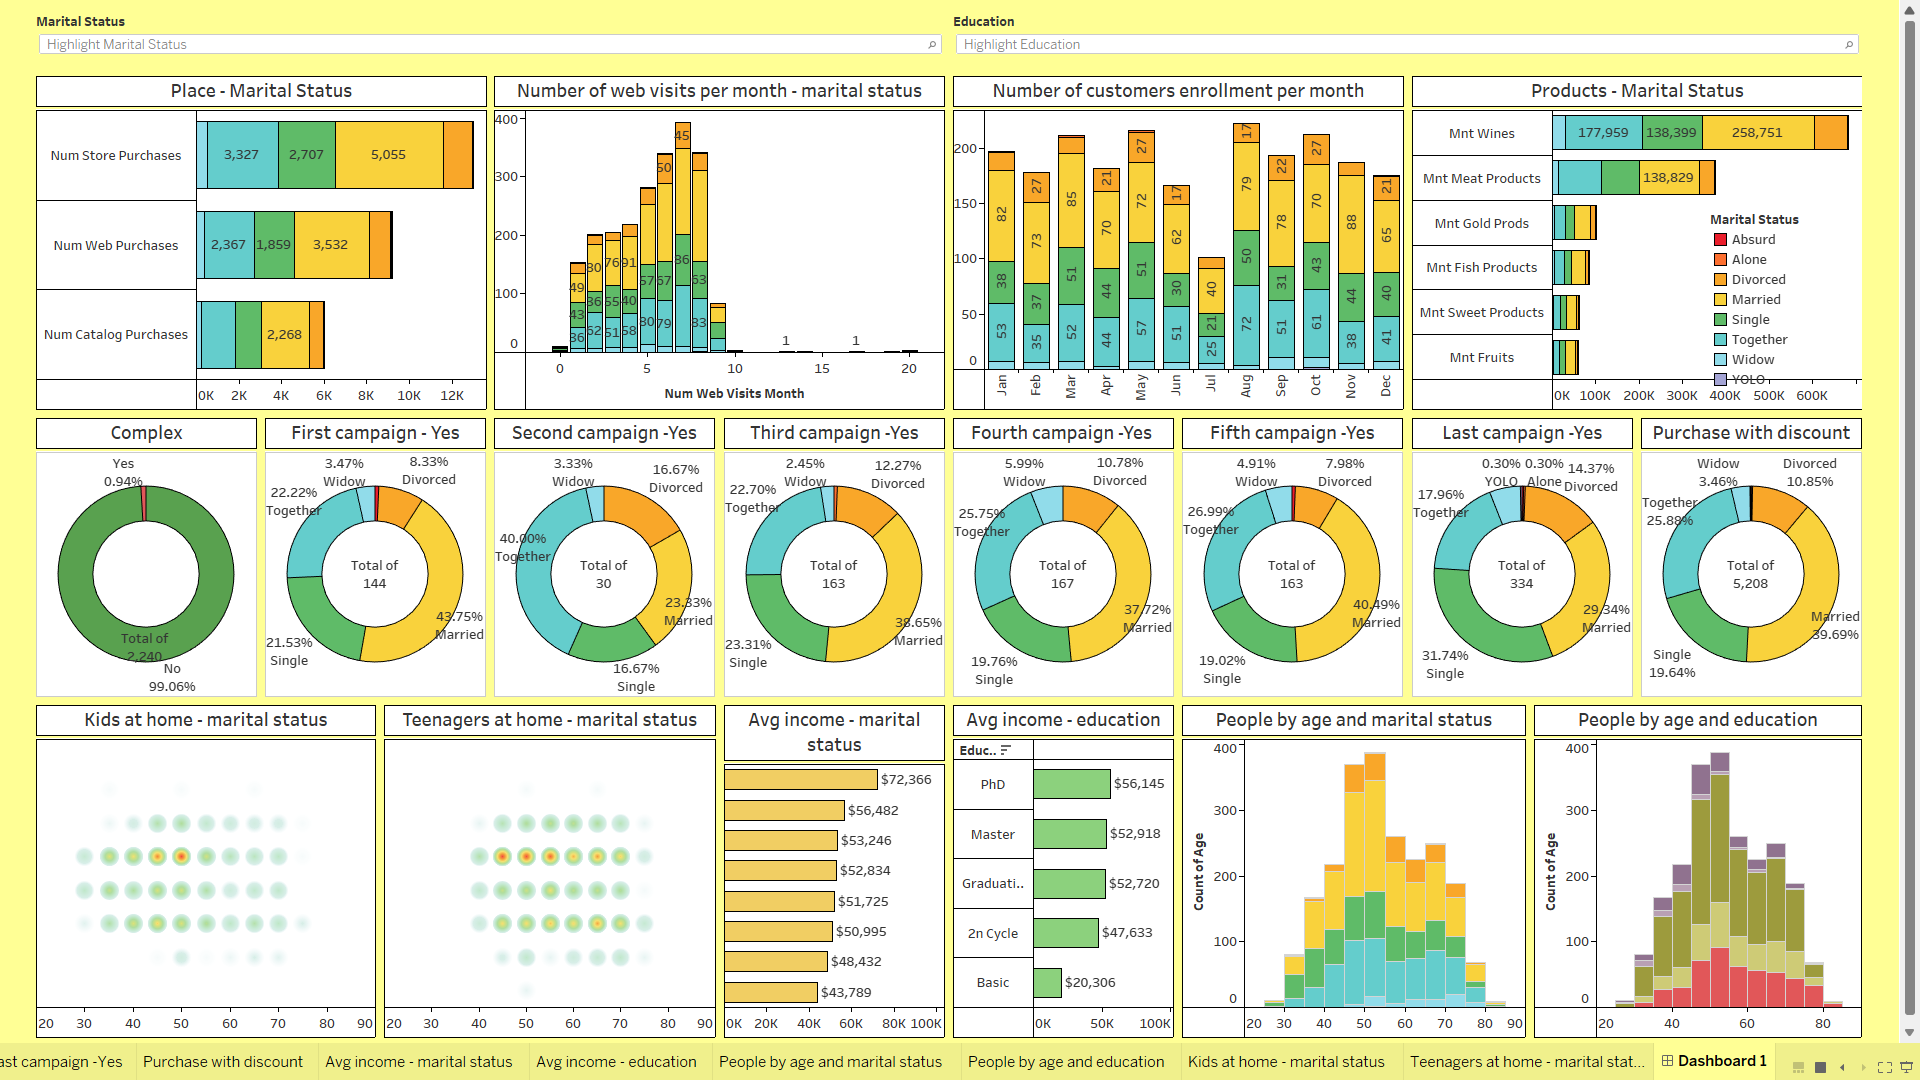

Layout of this report page (visuals, bound fields, positions):
{"tool":"tableau","page":{"name":"Dashboard 1","canvas":[1850,1050],"ordinal":0},"visuals":[{"type":"highlighter","title":"Place - Marital Status","param":"[federated.1ji5cvr06afofg13aah5p1n29ge8].[none:Marital_Status:nk]","box":[8,8,917,59]},{"type":"highlighter","title":"People by age and education","param":"[federated.1ji5cvr06afofg13aah5p1n29ge8].[none:Education:nk]","box":[925,8,917,59]},{"type":"worksheet","title":"Place - Marital Status","mark":"Automatic","box":[8,72,458.5,342]},{"type":"worksheet","title":"Number of web visits per month - marital status","mark":"Bar","rows":["ID"],"cols":["NumWebVisitsMonth"],"box":[466.5,72,458.5,342]},{"type":"worksheet","title":"Number of customers enrollment per month","mark":"Bar","rows":["ID"],"cols":["Dt_Customer"],"box":[925,72,458.5,342]},{"type":"worksheet","title":"Products - Marital Status","mark":"Bar","box":[1383.5,72,458.5,342]},{"type":"legend","title":"Place - Marital Status","param":"[federated.1ji5cvr06afofg13aah5p1n29ge8].[none:Marital_Status:nk]","box":[1724,206,110,164]},{"type":"worksheet","title":"Complex","mark":"Pie","rows":["Calculation_1702360723562647555","Calculation_1702360723562647555"],"box":[8,414,229.3,287]},{"type":"worksheet","title":"First campaign - Yes","mark":"Pie","rows":["Calculation_1702360723562647555","Calculation_1702360723562647555"],"box":[237.2,414,229.3,287]},{"type":"worksheet","title":"Second campaign -Yes","mark":"Pie","rows":["Calculation_1702360723562647555","Calculation_1702360723562647555"],"box":[466.5,414,229.3,287]},{"type":"worksheet","title":"Third campaign -Yes","mark":"Pie","rows":["Calculation_1702360723562647555","Calculation_1702360723562647555"],"box":[695.7,414,229.3,287]},{"type":"worksheet","title":"Fourth campaign -Yes ","mark":"Pie","rows":["Calculation_1702360723562647555","Calculation_1702360723562647555"],"box":[925,414,229.3,287]},{"type":"worksheet","title":"Fifth campaign -Yes","mark":"Pie","rows":["Calculation_1702360723562647555","Calculation_1702360723562647555"],"box":[1154.3,414,229.3,287]},{"type":"worksheet","title":"Last campaign -Yes","mark":"Pie","rows":["Calculation_1702360723562647555","Calculation_1702360723562647555"],"box":[1383.5,414,229.3,287]},{"type":"worksheet","title":"Purchase with discount","mark":"Pie","rows":["Calculation_1702360723562647555","Calculation_1702360723562647555"],"box":[1612.8,414,229.3,287]},{"type":"worksheet","title":"Kids at home - marital status","mark":"Heatmap","rows":["Marital_Status"],"cols":["Age (bin)"],"box":[8,701,348,341]},{"type":"worksheet","title":"Teenagers at home - marital status","mark":"Heatmap","rows":["Marital_Status"],"cols":["Age (bin)"],"box":[356,701,339.8,341]},{"type":"worksheet","title":"Avg income - marital status","mark":"Bar","rows":["Marital_Status"],"cols":["Income"],"box":[695.7,701,229.3,341]},{"type":"worksheet","title":"Avg income - education","mark":"Bar","rows":["Education"],"cols":["Income"],"box":[925,701,229.3,341]},{"type":"worksheet","title":"People by age and marital status","mark":"Automatic","rows":["Calculation_1702360723568152581"],"cols":["Age (bin)"],"box":[1154.3,701,343.9,341]},{"type":"worksheet","title":"People by age and education","mark":"Automatic","rows":["Calculation_1702360723568152581"],"cols":["Age (bin)"],"box":[1498.1,701,343.9,341]},{"type":"legend","title":"People by age and education","param":"[federated.1ji5cvr06afofg13aah5p1n29ge8].[none:Education:nk]","box":[1760,746,73,104]}]}

Visuals, with their boxes on the page's 1850x1050 design canvas (x1, y1, x2, y2). These are canvas units, not pixel positions in the 1920x1080 screenshot, which may show the page scaled, cropped or inside an application window:
"Place - Marital Status" highlighter: {"left": 8, "top": 8, "right": 925, "bottom": 67}
"People by age and education" highlighter: {"left": 925, "top": 8, "right": 1842, "bottom": 67}
"Place - Marital Status" worksheet: {"left": 8, "top": 72, "right": 466, "bottom": 414}
"Number of web visits per month - marital status" worksheet (Bar marks): {"left": 466, "top": 72, "right": 925, "bottom": 414}
"Number of customers enrollment per month" worksheet (Bar marks): {"left": 925, "top": 72, "right": 1384, "bottom": 414}
"Products - Marital Status" worksheet (Bar marks): {"left": 1384, "top": 72, "right": 1842, "bottom": 414}
"Place - Marital Status" legend: {"left": 1724, "top": 206, "right": 1834, "bottom": 370}
"Complex" worksheet (Pie marks): {"left": 8, "top": 414, "right": 237, "bottom": 701}
"First campaign - Yes" worksheet (Pie marks): {"left": 237, "top": 414, "right": 466, "bottom": 701}
"Second campaign -Yes" worksheet (Pie marks): {"left": 466, "top": 414, "right": 696, "bottom": 701}
"Third campaign -Yes" worksheet (Pie marks): {"left": 696, "top": 414, "right": 925, "bottom": 701}
"Fourth campaign -Yes " worksheet (Pie marks): {"left": 925, "top": 414, "right": 1154, "bottom": 701}
"Fifth campaign -Yes" worksheet (Pie marks): {"left": 1154, "top": 414, "right": 1384, "bottom": 701}
"Last campaign -Yes" worksheet (Pie marks): {"left": 1384, "top": 414, "right": 1613, "bottom": 701}
"Purchase with discount" worksheet (Pie marks): {"left": 1613, "top": 414, "right": 1842, "bottom": 701}
"Kids at home - marital status" worksheet (Heatmap marks): {"left": 8, "top": 701, "right": 356, "bottom": 1042}
"Teenagers at home - marital status" worksheet (Heatmap marks): {"left": 356, "top": 701, "right": 696, "bottom": 1042}
"Avg income - marital status" worksheet (Bar marks): {"left": 696, "top": 701, "right": 925, "bottom": 1042}
"Avg income - education" worksheet (Bar marks): {"left": 925, "top": 701, "right": 1154, "bottom": 1042}
"People by age and marital status" worksheet: {"left": 1154, "top": 701, "right": 1498, "bottom": 1042}
"People by age and education" worksheet: {"left": 1498, "top": 701, "right": 1842, "bottom": 1042}
"People by age and education" legend: {"left": 1760, "top": 746, "right": 1833, "bottom": 850}
